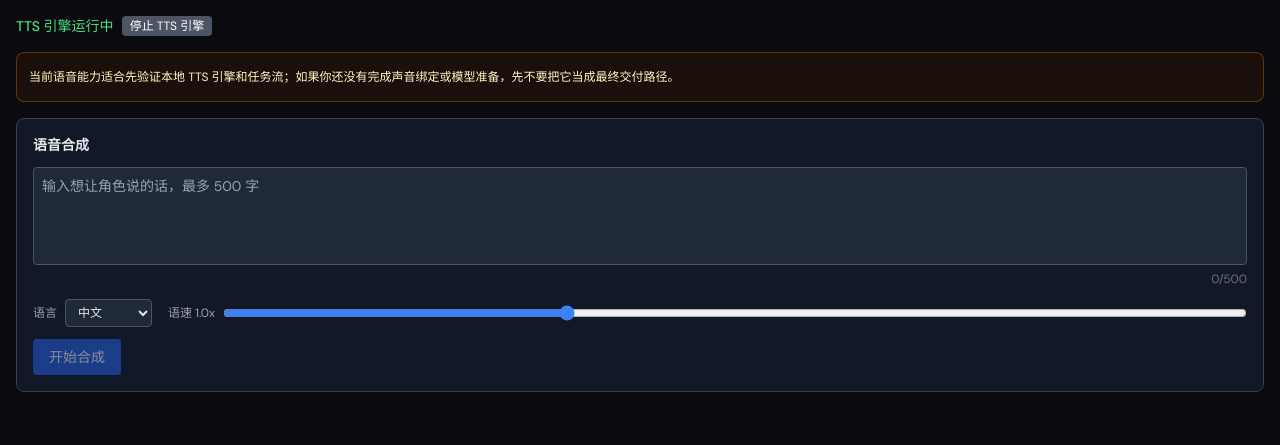
shows failed state when task fails
Step 1. Type "你好" into the text box with placeholder "输入想让角色说的话，最多 500 字" → (640, 216), box [33,167,1247,265]
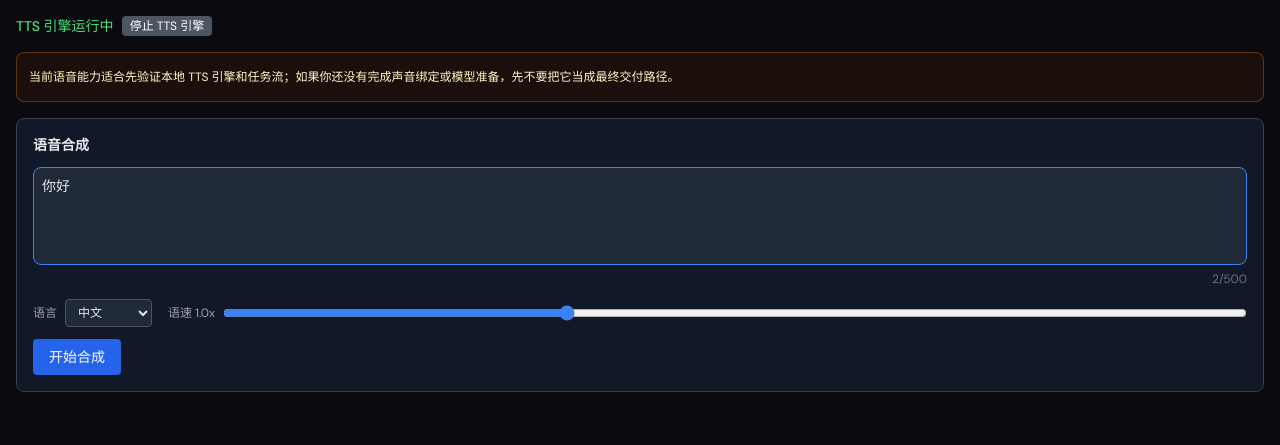
Step 2. Click the button "开始合成" → (77, 357), box [33,339,121,375]
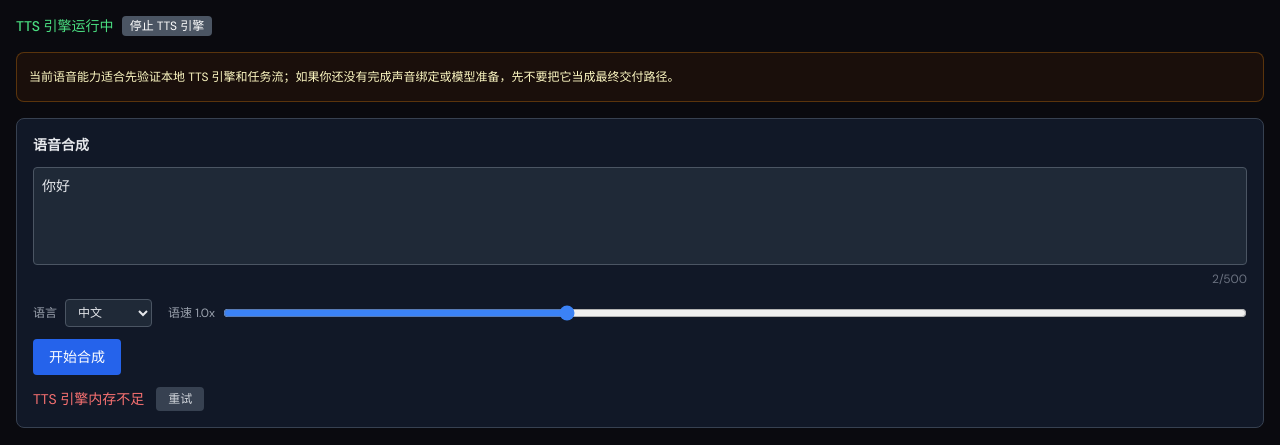
Expected: the text "TTS 引擎内存不足" is shown, [33,389,144,409]
Expected: the button "重试" is shown, [156,387,204,411]
